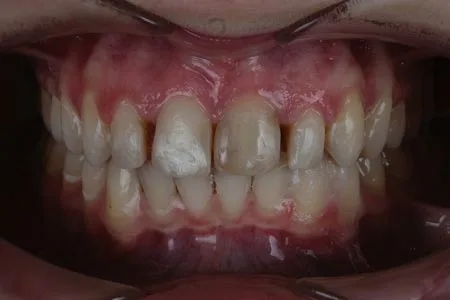LLCI_healthy: (217, 175, 252, 222)
LLLI_healthy: (255, 175, 289, 222)
LR1BC_healthy: (83, 166, 103, 205)
LRCI_healthy: (176, 176, 216, 228)
LRC_healthy: (104, 170, 138, 226)
LRLI_healthy: (142, 177, 173, 223)
UL1BC_healthy: (364, 86, 395, 160)
ULCI_healthy: (216, 98, 291, 175)
ULC_healthy: (329, 83, 362, 167)
ULLI_healthy: (284, 96, 323, 171)
UR1BC_healthy: (59, 93, 80, 156)
URCI_healthy: (155, 91, 216, 177)
URC_healthy: (80, 88, 110, 165)
URLI_healthy: (106, 97, 146, 171)
